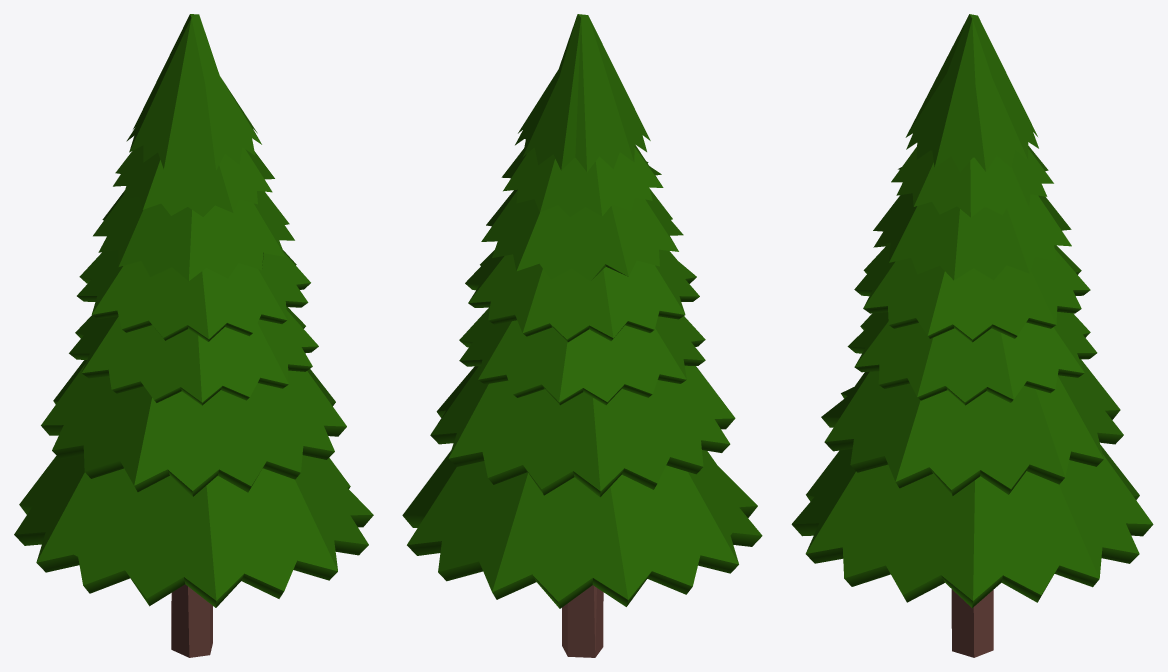
Rendered from Pine.fbx.
3 renders of one model, left to right at view 1: azimuth 30°, elevation 25°; view 2: azimuth 150°, elevation 25°; view 3: azimuth 270°, elevation 25°, orthographic.
Visible parts, largest first — view 1: Pine; view 2: Pine; view 3: Pine.
Part boxes in pixels (x1,y1,x2,y2): Pine: (14, 14, 373, 657); Pine: (402, 14, 762, 657); Pine: (791, 14, 1153, 657).
Size of the model in its own units: 565 by 1090 by 565.
